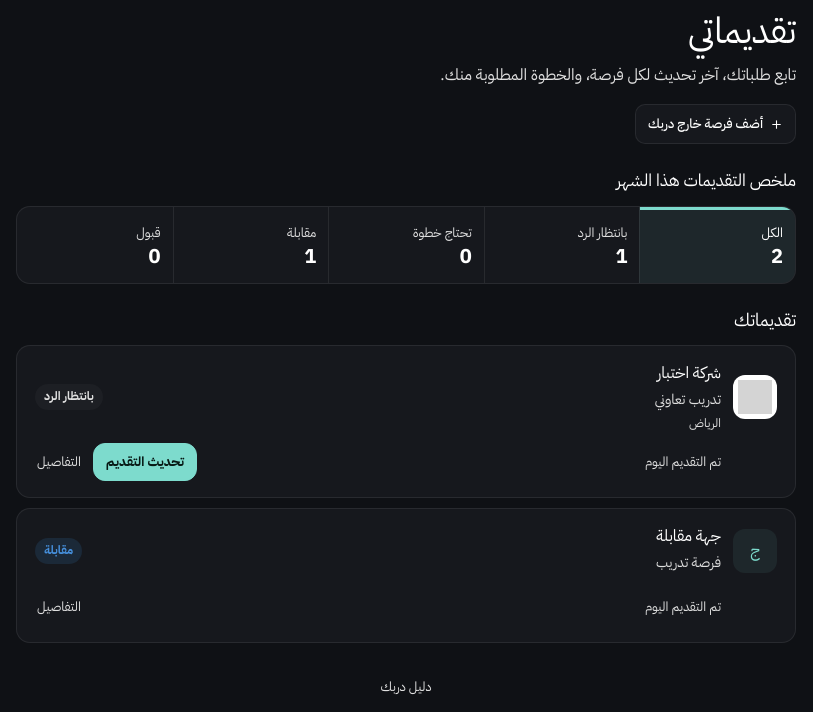
journey filters actual applications and the feed remains compact
Click the button "مقابلة 1" at (250, 245), box [173,207,328,283]
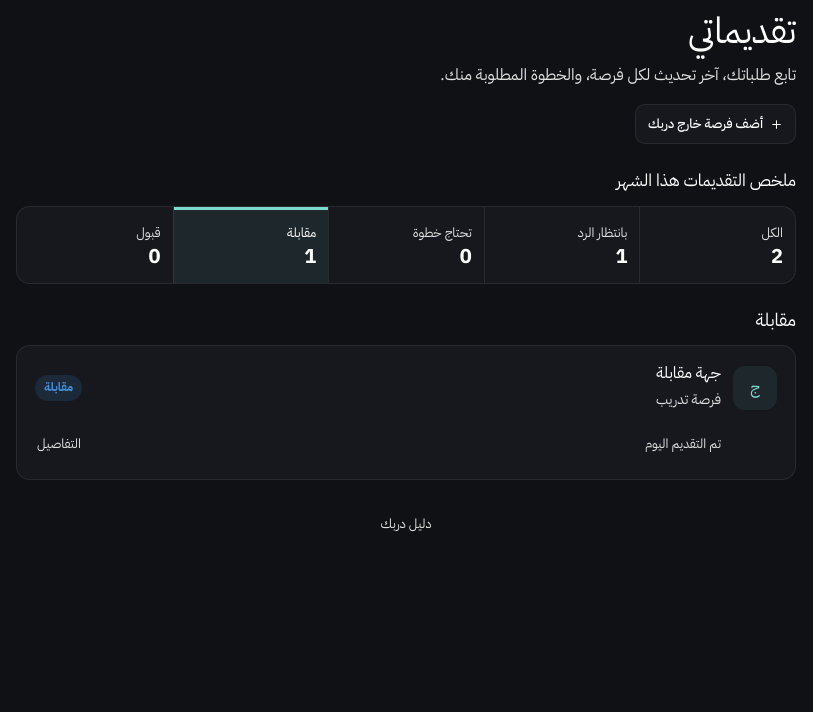
Expected: the heading "جهة مقابلة" is shown, [656,361,721,385]
Now the heading "مقابلة" is shown, box [756,306,796,333]
Click the button "الكل 2" at (717, 245), box [639,207,795,283]
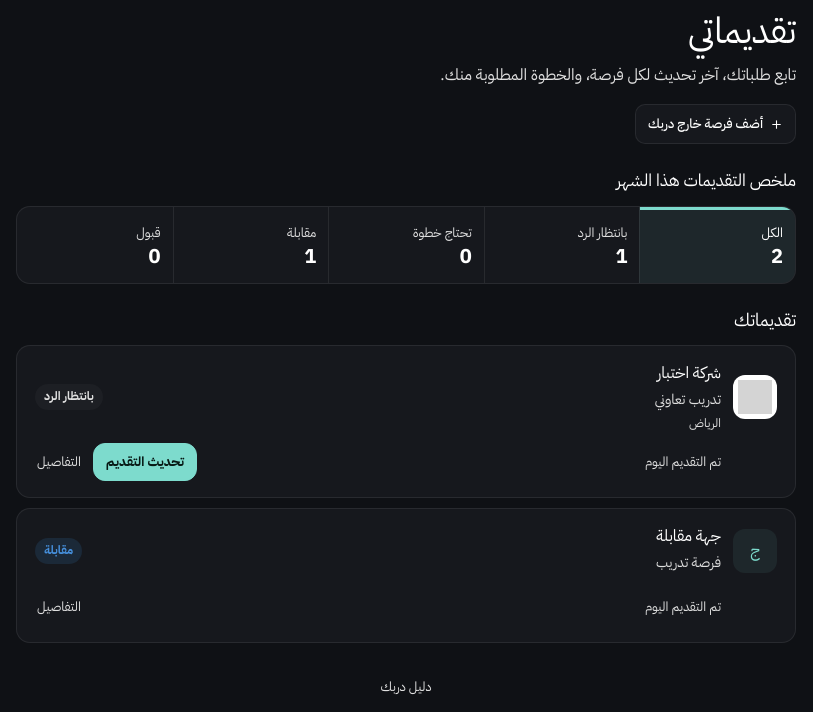
Now the heading "تقديماتك" is shown, box [734,306,796,333]
Now the button "تحديث التقديم" is shown, box [93,443,197,481]
